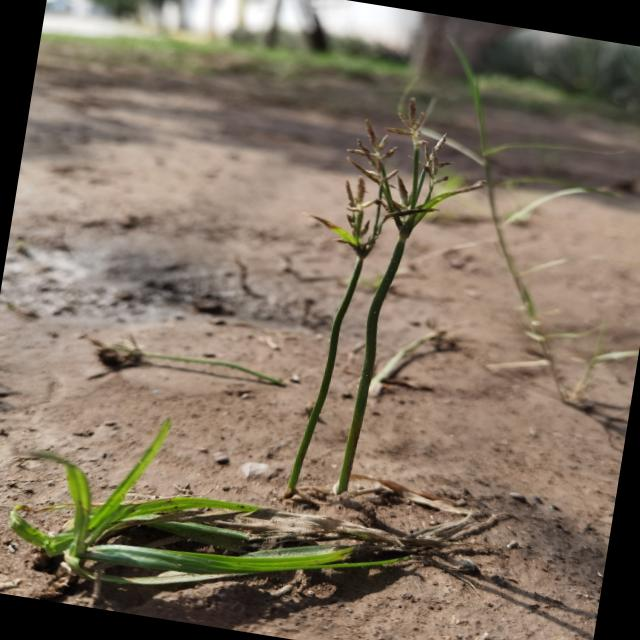cyperus: (294, 76, 502, 280)
